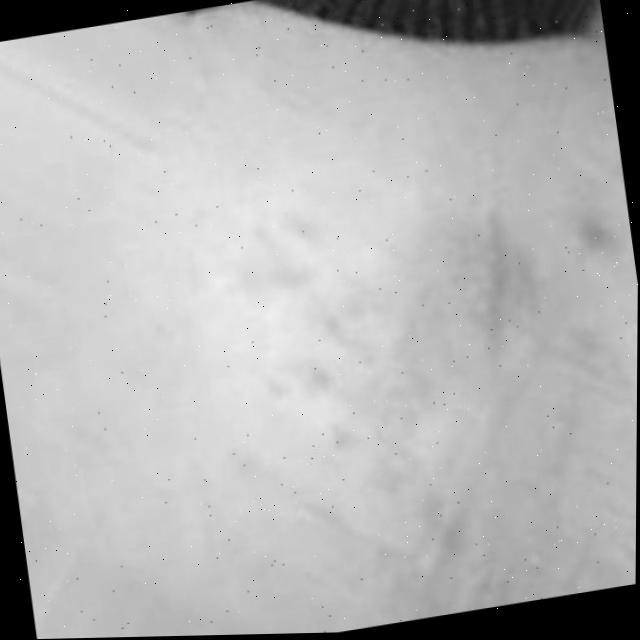Shingles: (313, 210, 566, 435)
